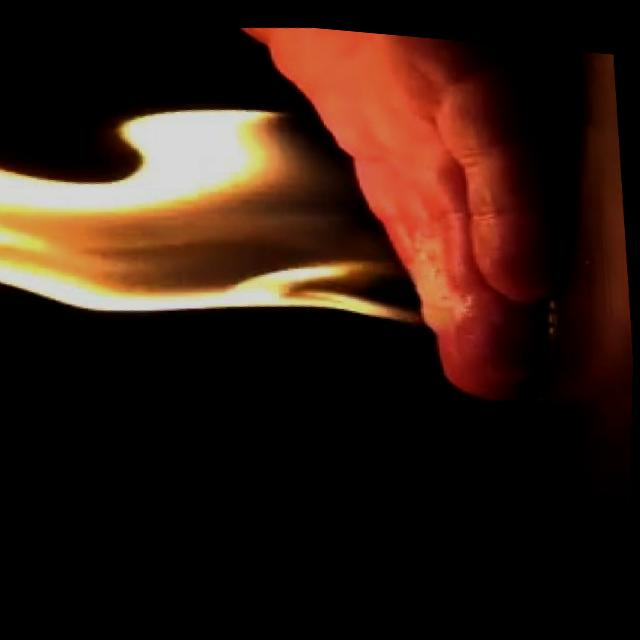Fire: (0, 66, 457, 365)
